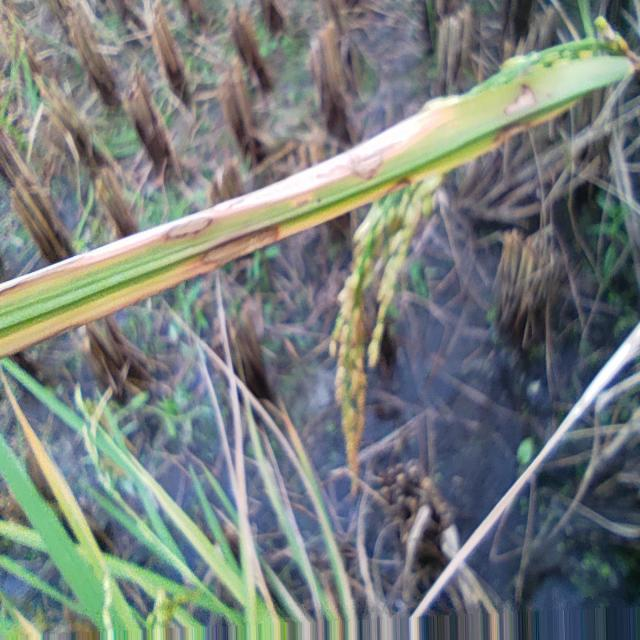Leaf_Blast: (0, 367, 131, 633), (280, 402, 355, 618)
Rice False Smut: (202, 227, 279, 267), (504, 83, 536, 115), (168, 217, 211, 240), (350, 150, 382, 180)
